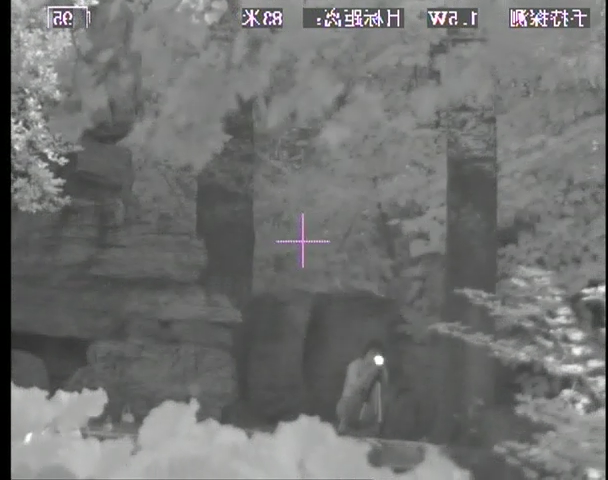my: (372, 352, 387, 367)
